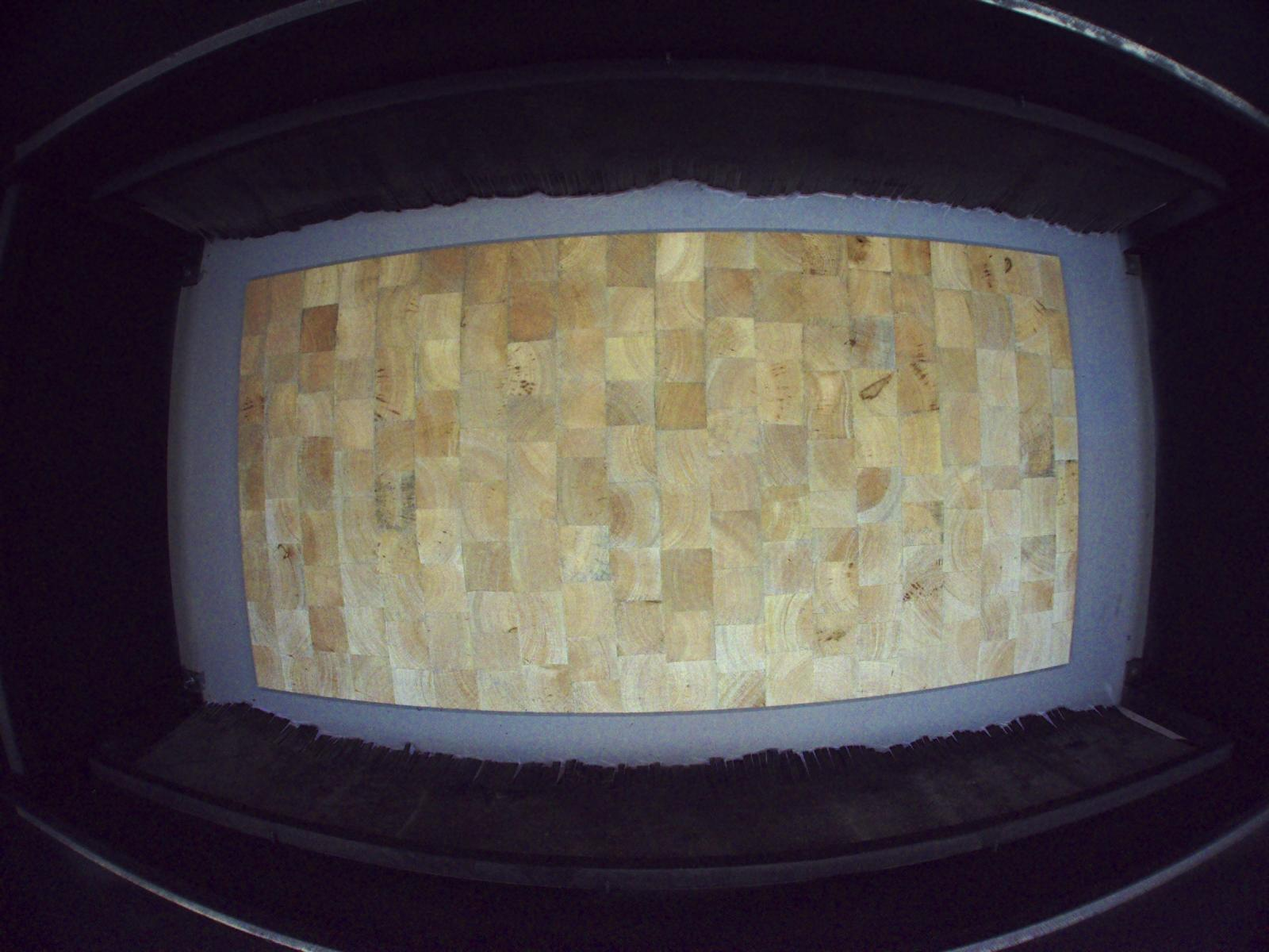nudillo: (856, 235, 867, 248), (849, 338, 857, 348)
sheck_ecuatoriano: (278, 544, 296, 580)
